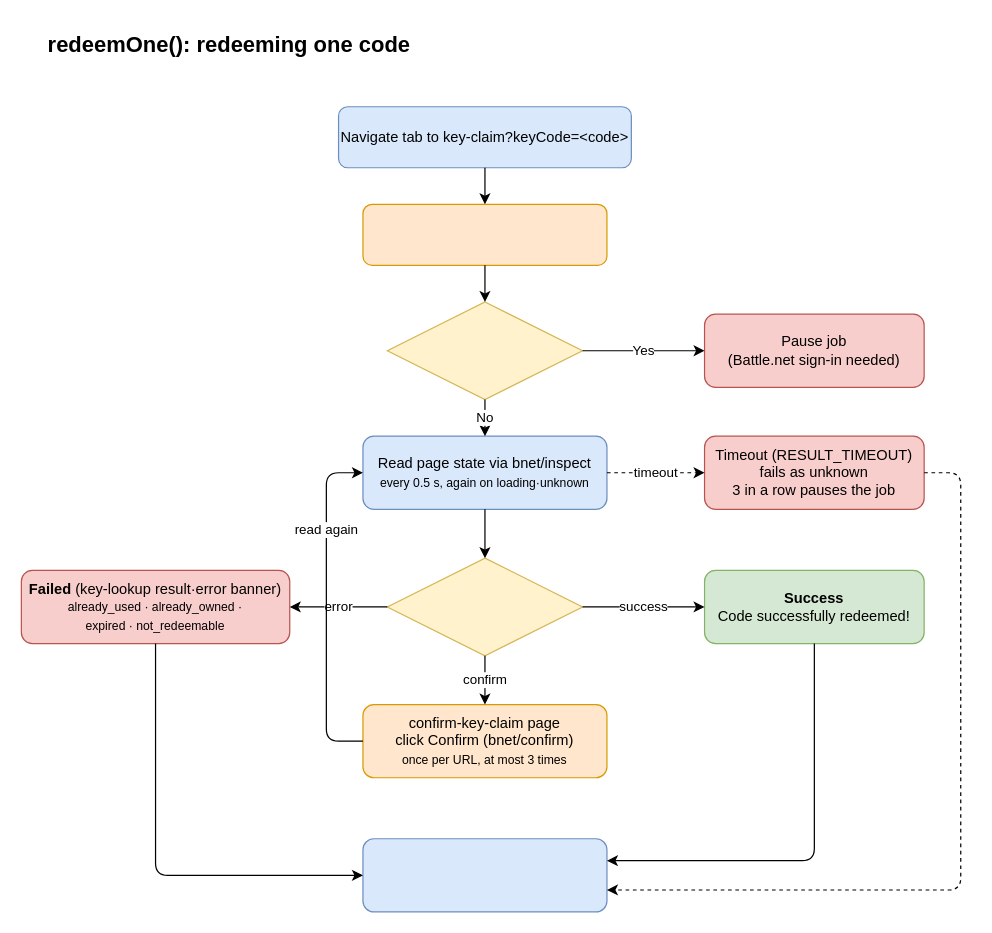
Image size: 992x933. Some labels were removed from this diagram. The centre of each missing label's shape, as x and y in pixels:
"Automatic redirect preload/<base64> (auto POST)" belongs at pixel 484 234.
"Page state" belongs at pixel 484 606.
"Save result (patchReward) next code after a random delay" belongs at pixel 484 875.
"Sign-in page?" belongs at pixel 484 350.
